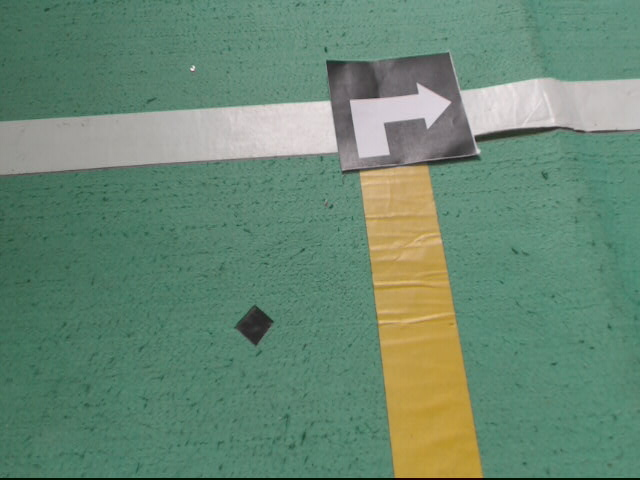right: (325, 52, 483, 173)
